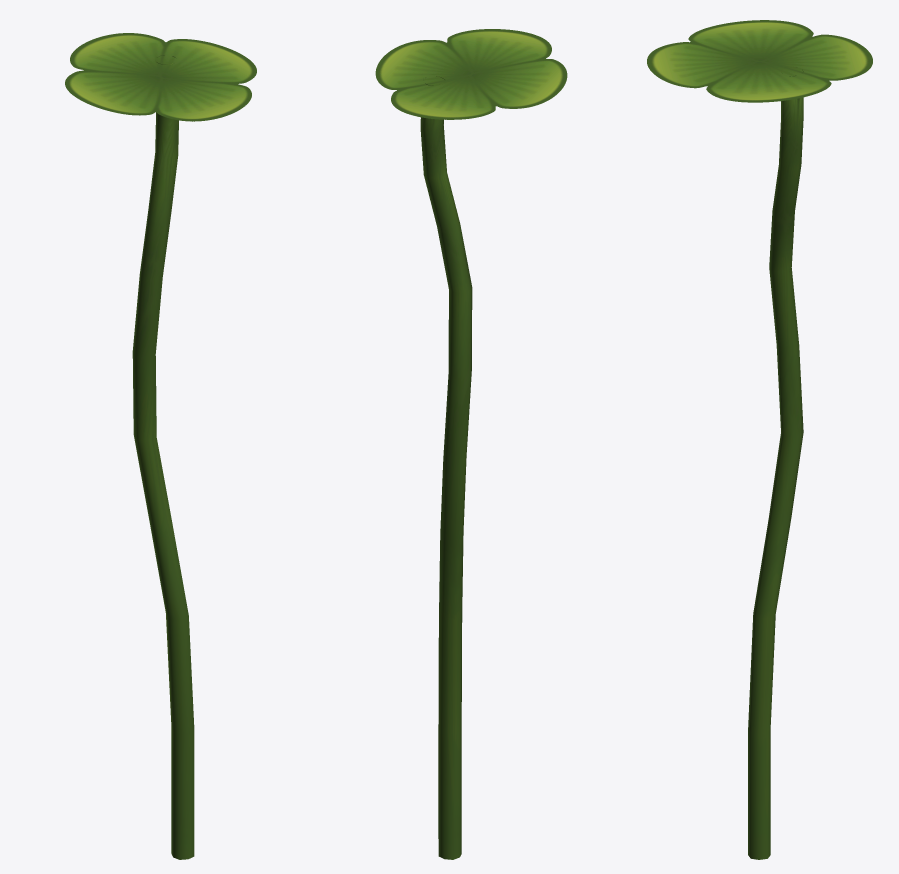
File: LillypadBob.fbx
The picture shows the model from 3 angles, left to right: view 1: azimuth 30°, elevation 25°; view 2: azimuth 150°, elevation 25°; view 3: azimuth 270°, elevation 25°; orthographic projection.
Parts seen in each view (by area): view 1: LillypadBase, RoofTile; view 2: LillypadBase, RoofTile; view 3: LillypadBase, RoofTile.
Boxes of the visible parts, <box> form: LillypadBase: <box>132,55,194,859</box>; RoofTile: <box>65,33,256,121</box>; LillypadBase: <box>420,76,472,859</box>; RoofTile: <box>375,29,567,119</box>; LillypadBase: <box>748,66,803,859</box>; RoofTile: <box>647,20,872,102</box>.
Size of the model in its own units: 0.5785 by 2.23 by 0.6434.
